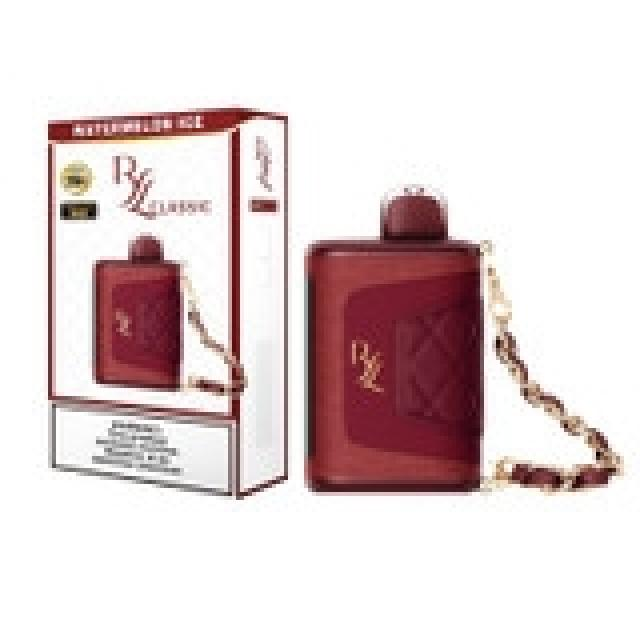Vapes: (44, 104, 288, 500)
